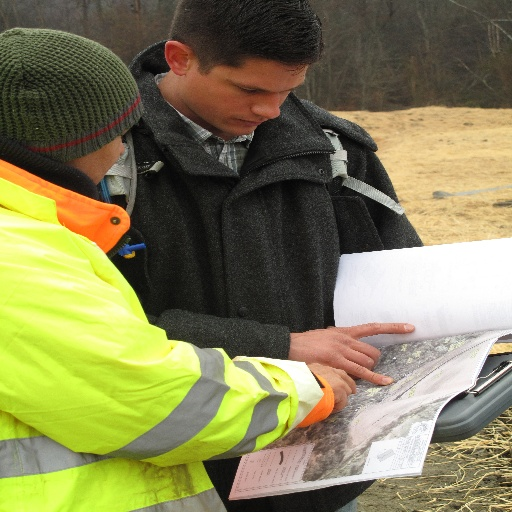hand: (289, 317, 419, 382), (307, 361, 359, 414)
